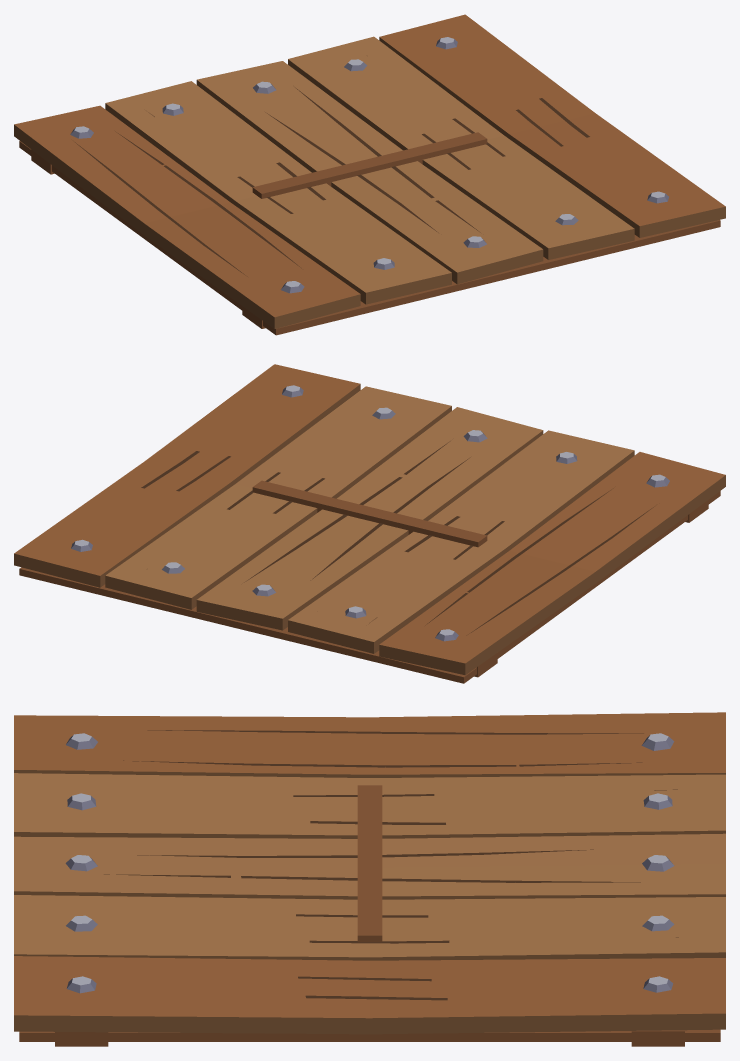
The model's file is floor_plank_tiles.glb.
The picture shows the model from 3 angles, top to bottom: view 1: azimuth 30°, elevation 25°; view 2: azimuth 150°, elevation 25°; view 3: azimuth 270°, elevation 25°; orthographic projection. The views are drawn at different scales.
Visible parts, largest first — view 1: Q1, Q0, Q3, Q2, Trim; view 2: Q3, Q2, Q1, Q0, Trim; view 3: Q0, Q2, Q3, Q1, Trim.
Part boxes in pixels (bbox=[...]): Q1: bbox=[144, 171, 500, 335]; Q0: bbox=[375, 113, 725, 280]; Q3: bbox=[14, 70, 359, 241]; Q2: bbox=[240, 14, 595, 160]; Trim: bbox=[252, 132, 487, 198]; Q3: bbox=[239, 520, 595, 683]; Q2: bbox=[14, 461, 364, 629]; Q1: bbox=[380, 418, 725, 589]; Q0: bbox=[144, 364, 499, 509]; Trim: bbox=[252, 480, 487, 547]; Q0: bbox=[14, 859, 369, 1046]; Q2: bbox=[370, 859, 725, 1046]; Q3: bbox=[370, 712, 725, 867]; Q1: bbox=[14, 715, 369, 867]; Trim: bbox=[357, 785, 382, 942].
Size of the model in its own units: 4 by 0.2711 by 4.
